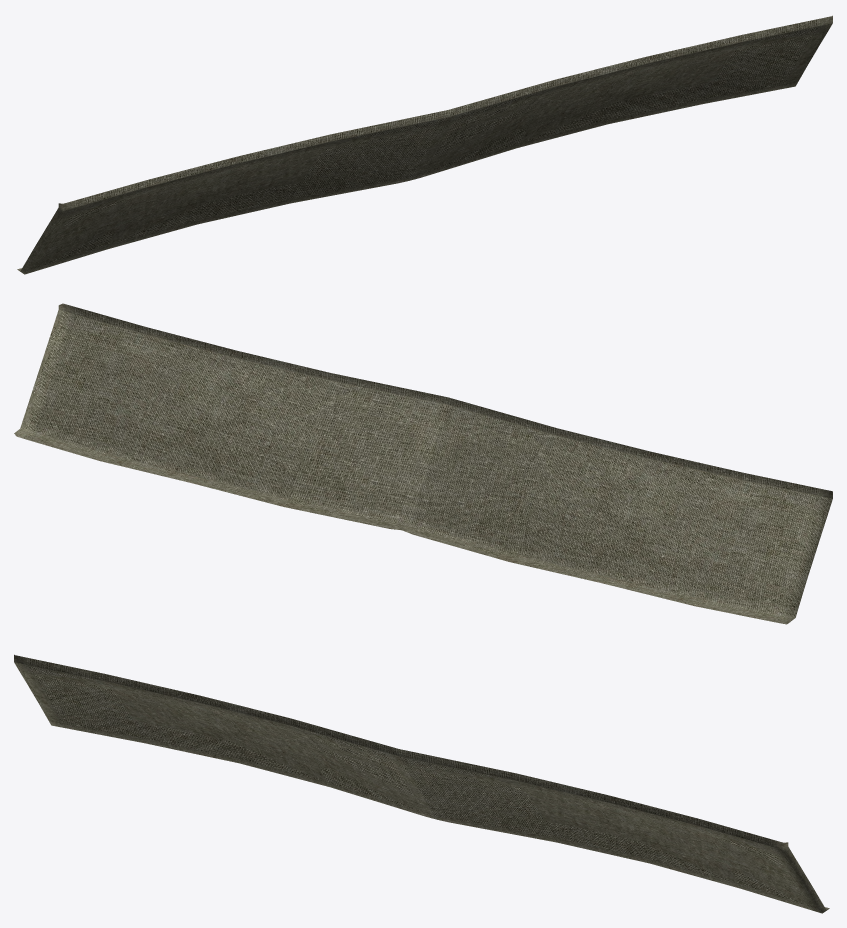
Rendered from prop_toujane_canopy.glb.
The picture shows the model from 3 angles, top to bottom: view 1: azimuth 30°, elevation 25°; view 2: azimuth 150°, elevation 25°; view 3: azimuth 330°, elevation 25°; orthographic projection.
Size of the model in its own units: 239 by 29.61 by 28.27.
Materials: 1 (1 with a texture image).
